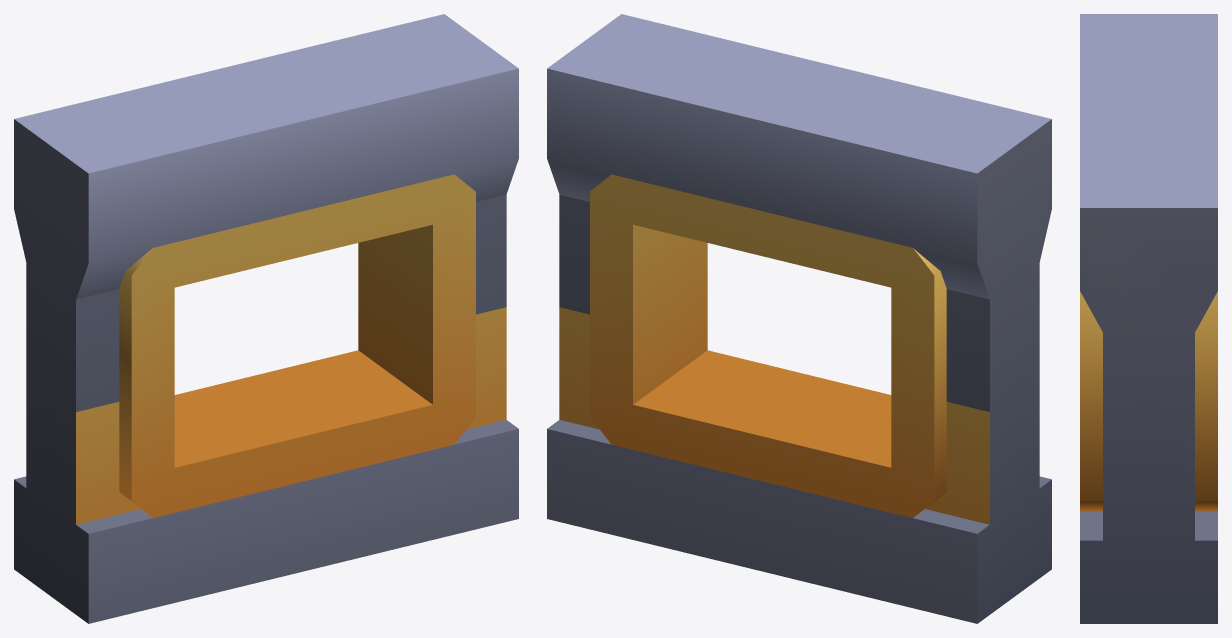
File: wall-window-banner.glb
3 renders of one model, left to right at view 1: azimuth 30°, elevation 25°; view 2: azimuth 150°, elevation 25°; view 3: azimuth 270°, elevation 25°, orthographic. The views are drawn at different scales.
Visible parts, largest first — view 1: wall-window-banner; view 2: wall-window-banner; view 3: wall-window-banner.
Part boxes in pixels (x1,y1,x2,y2): wall-window-banner: (14,14,518,623); wall-window-banner: (547,14,1051,623); wall-window-banner: (1080,14,1217,623).
Bounding box in the file's own units: 1 × 1 × 0.3.
